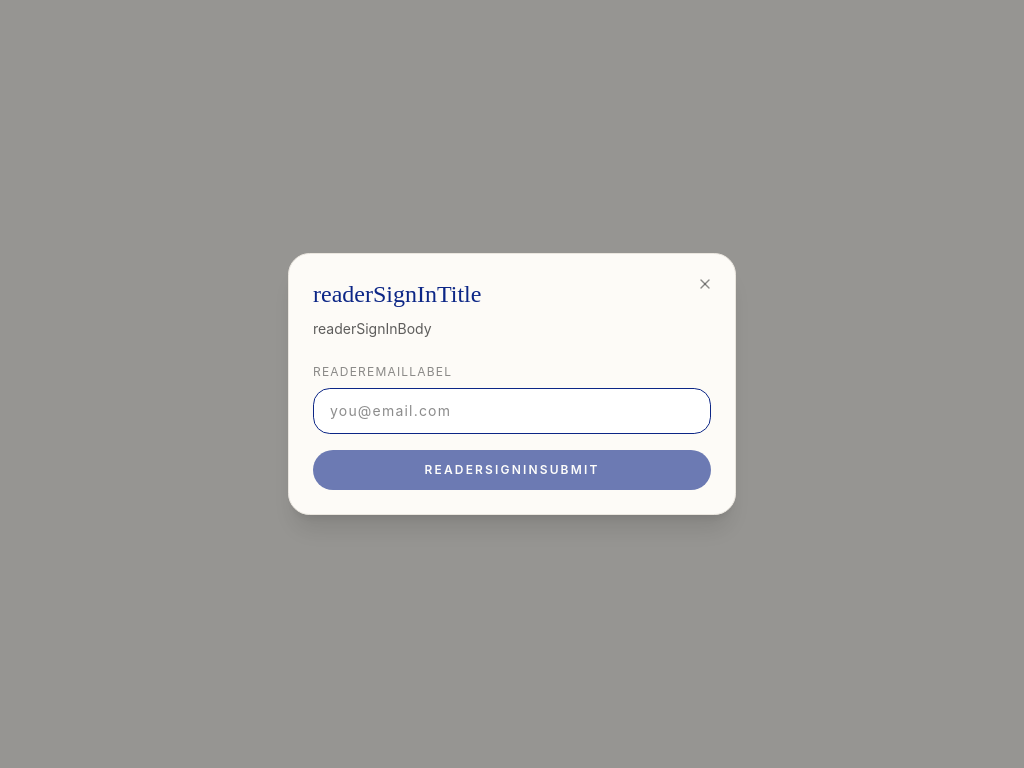
ReaderSignInModal › keeps Continue disabled until the email looks valid
Expected: the button "readerSignInSubmit" is disabled, [313,450,711,490]
Type "abc@" into the field.
click(512, 411); type("abc@")  # box [313,388,711,434]
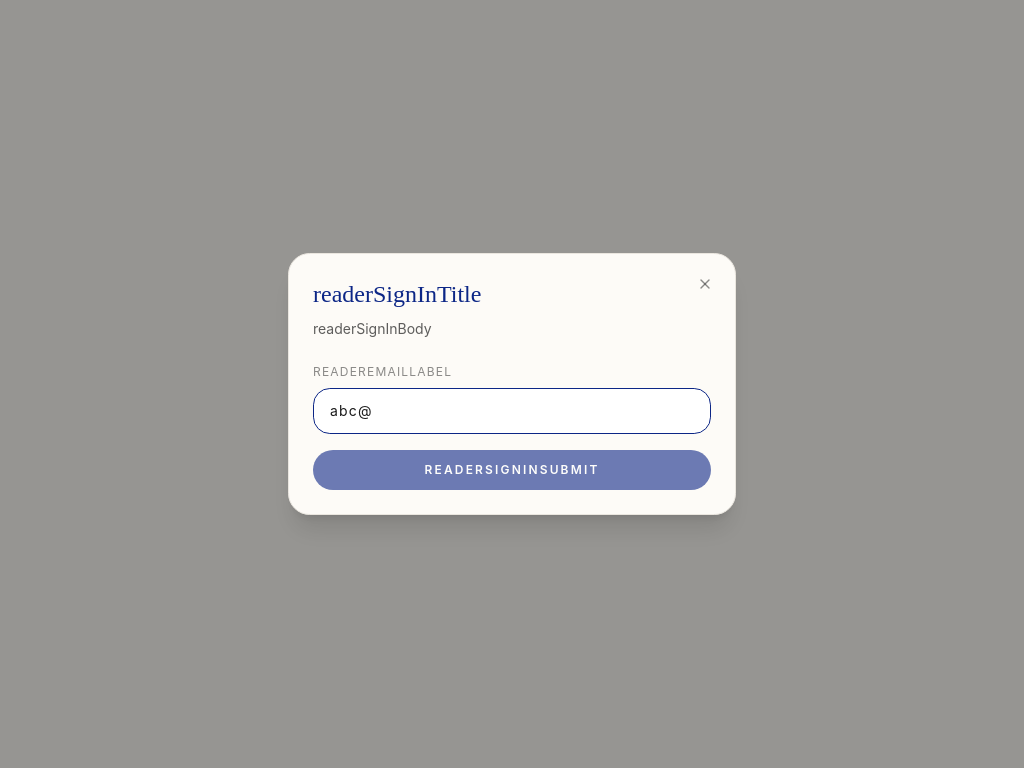
Expected: the button "readerSignInSubmit" is disabled, [313,450,711,490]
Replace the text in the field with "reader@example.com" at (512, 411), box [313,388,711,434]
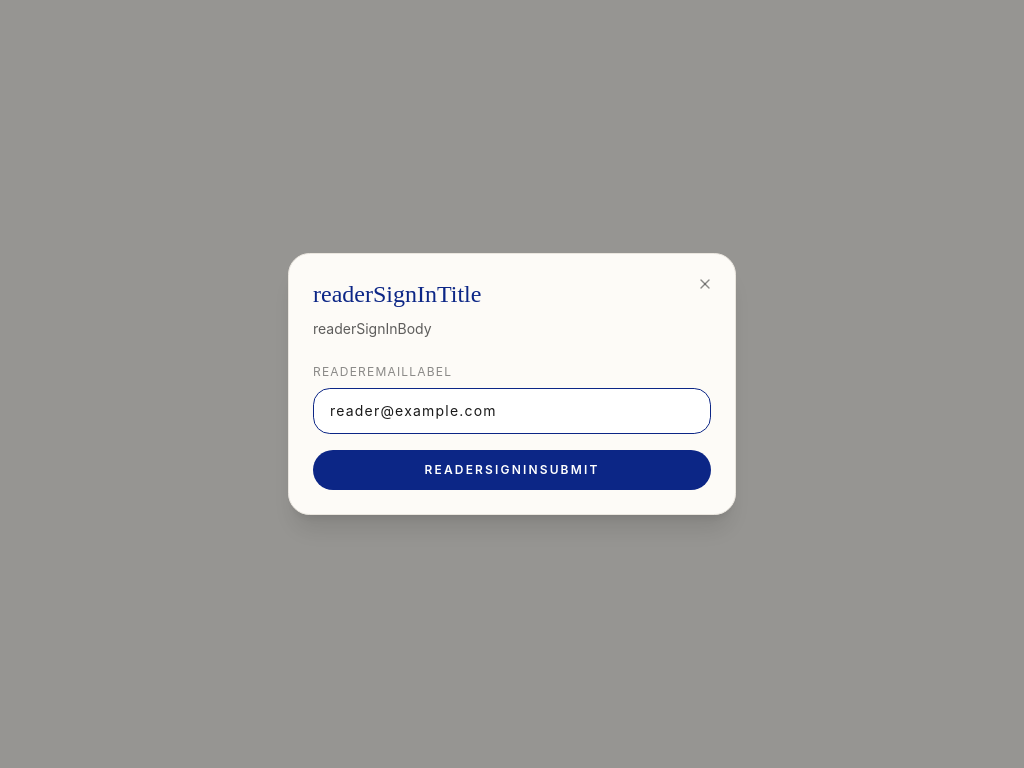
Result: the button "readerSignInSubmit" is enabled at [313,450,711,490]
